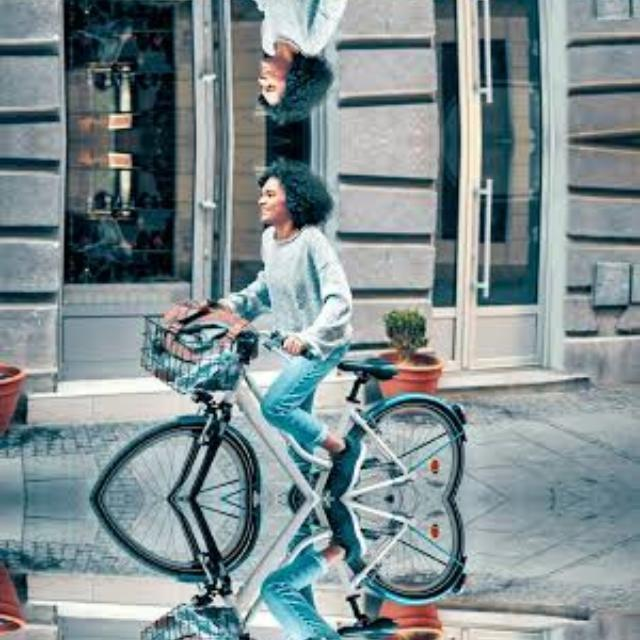obstacle: (84, 307, 470, 498), (84, 498, 469, 640)
